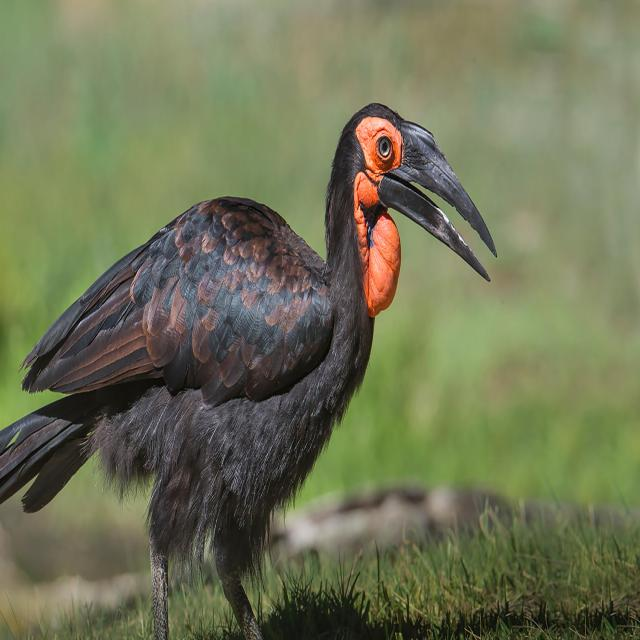Hornbill: (0, 96, 498, 640)
